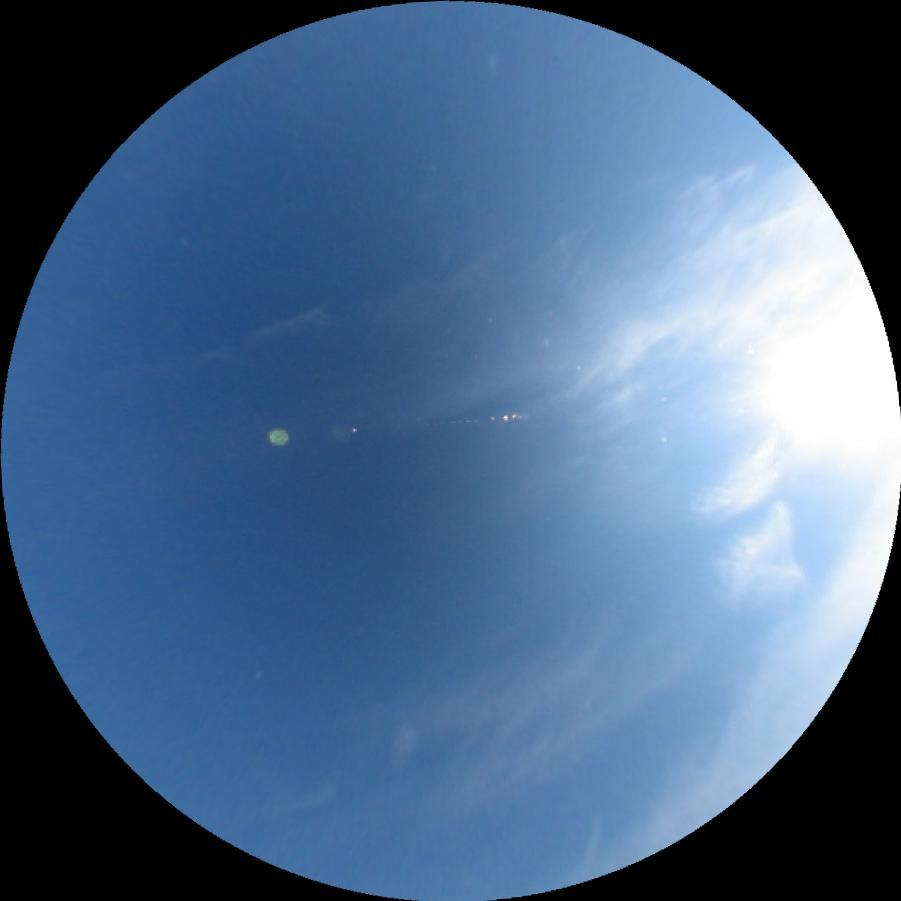contrail veryold: (315, 196, 861, 487), (681, 439, 809, 614)
